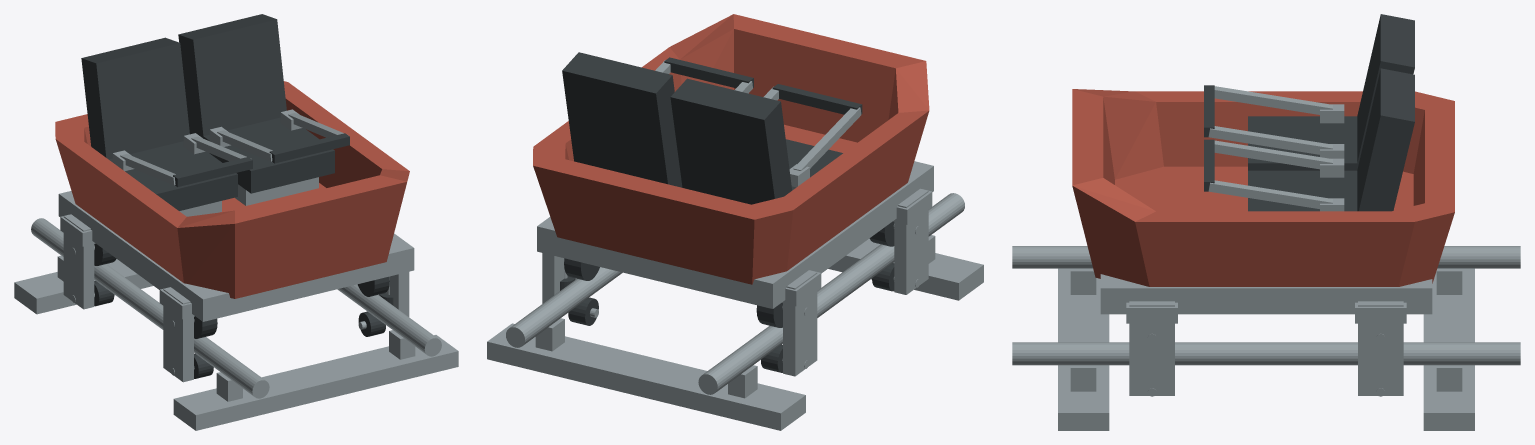
3 renders of one model, left to right at view 1: azimuth 30°, elevation 25°; view 2: azimuth 150°, elevation 25°; view 3: azimuth 270°, elevation 25°, orthographic. The views are drawn at different scales.
Parts seen in each view (by area): view 1: WholeOpenTaperedCoasterCarBodyAndFloor, RightWholeReclinedTallSeatBack, LeftWholeReclinedTallSeatBack, WholeGroundTrackShoe_-0.64, WholeCarriageUnderfloor, RightWholeSeatCushion, WholeShortRoundDisplayRail_-0.4, LeftWholeSeatCushion, WholeGroundTrackShoe_0.64, WholeOuterWheelBracket_(-1, 0.4), WholeShortRoundDisplayRail_0.4, WholeOuterWheelBracket_(-1, -0.4) (+14 smaller); view 2: WholeOpenTaperedCoasterCarBodyAndFloor, RightWholeReclinedTallSeatBack, LeftWholeReclinedTallSeatBack, WholeGroundTrackShoe_0.64, WholeCarriageUnderfloor, WholeShortRoundDisplayRail_-0.4, WholeGroundTrackShoe_-0.64, WholeOuterWheelBracket_(-1, -0.4), WholeOuterWheelBracket_(-1, 0.4), WholeShortRoundDisplayRail_0.4, LeftWholeLapCrossGrip, RightWholeLapCrossGrip (+10 smaller); view 3: WholeOpenTaperedCoasterCarBodyAndFloor, WholeShortRoundDisplayRail_0.4, WholeCarriageUnderfloor, RightWholeReclinedTallSeatBack, WholeGroundTrackShoe_0.64, WholeGroundTrackShoe_-0.64, WholeShortRoundDisplayRail_-0.4, LeftWholeSeatCushion, WholeOuterWheelBracket_(1, -0.4), WholeOuterWheelBracket_(1, 0.4), RightWholeSeatCushion, LeftWholeReclinedTallSeatBack (+12 smaller).
Boxes of the visible parts, x1,y1,x2,y2 form: WholeOpenTaperedCoasterCarBodyAndFloor: (55,81,409,298); RightWholeReclinedTallSeatBack: (178,14,286,136); LeftWholeReclinedTallSeatBack: (81,37,189,159); WholeGroundTrackShoe_-0.64: (173,335,458,430); WholeCarriageUnderfloor: (58,191,414,321); RightWholeSeatCushion: (197,117,334,193); WholeShortRoundDisplayRail_-0.4: (31,218,269,398); LeftWholeSeatCushion: (109,141,237,210); WholeGroundTrackShoe_0.64: (14,259,153,314); WholeOuterWheelBracket_(-1, 0.4): (63,214,94,309); WholeShortRoundDisplayRail_0.4: (337,284,441,356); WholeOuterWheelBracket_(-1, -0.4): (163,287,193,382); WholeOpenTaperedCoasterCarBodyAndFloor: (533,14,929,284); RightWholeReclinedTallSeatBack: (562,52,682,187); LeftWholeReclinedTallSeatBack: (670,78,791,204); WholeGroundTrackShoe_0.64: (487,323,805,430); WholeCarriageUnderfloor: (537,161,933,308); WholeShortRoundDisplayRail_-0.4: (698,193,964,394); WholeGroundTrackShoe_-0.64: (828,238,983,300); WholeOuterWheelBracket_(-1, -0.4): (894,188,928,294); WholeOuterWheelBracket_(-1, 0.4): (783,270,817,376); WholeShortRoundDisplayRail_0.4: (506,267,622,347); LeftWholeLapCrossGrip: (772,84,862,114); RightWholeLapCrossGrip: (664,57,753,88); WholeOpenTaperedCoasterCarBodyAndFloor: (1072,89,1454,286); WholeShortRoundDisplayRail_0.4: (1012,342,1520,365); WholeCarriageUnderfloor: (1100,274,1432,314); RightWholeReclinedTallSeatBack: (1357,68,1414,211); WholeGroundTrackShoe_0.64: (1423,268,1474,430); WholeGroundTrackShoe_-0.64: (1058,268,1109,430); WholeShortRoundDisplayRail_-0.4: (1012,246,1520,268); LeftWholeSeatCushion: (1248,116,1358,170); WholeOuterWheelBracket_(1, -0.4): (1129,301,1174,395); WholeOuterWheelBracket_(1, 0.4): (1358,301,1403,395); RightWholeSeatCushion: (1248,170,1357,211); LeftWholeReclinedTallSeatBack: (1357,14,1414,163).
Bounding box in the file's own units: 1.22 × 1.13 × 1.78.
